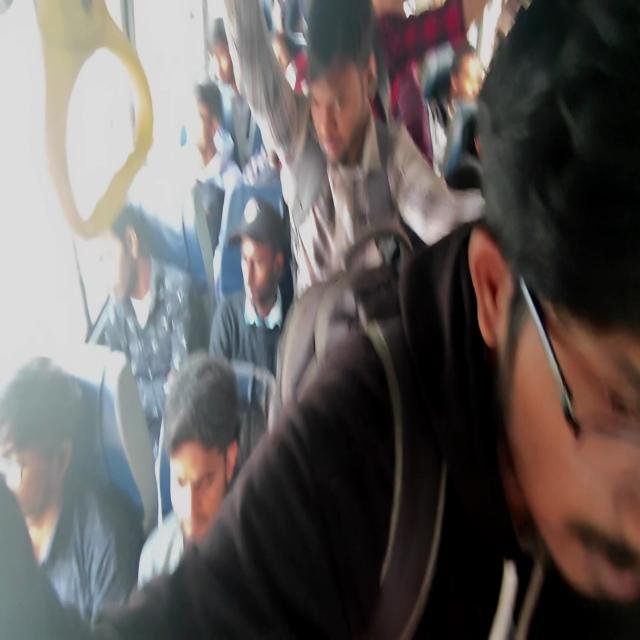person: (495, 66, 640, 604), (148, 362, 244, 577), (299, 2, 376, 160), (5, 371, 71, 537), (235, 209, 288, 322), (85, 208, 150, 296), (184, 80, 231, 182), (384, 0, 440, 61), (208, 16, 243, 76), (270, 39, 301, 96), (467, 58, 492, 117)
